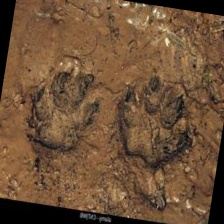raccoon: (108, 71, 203, 172), (19, 61, 110, 158)
